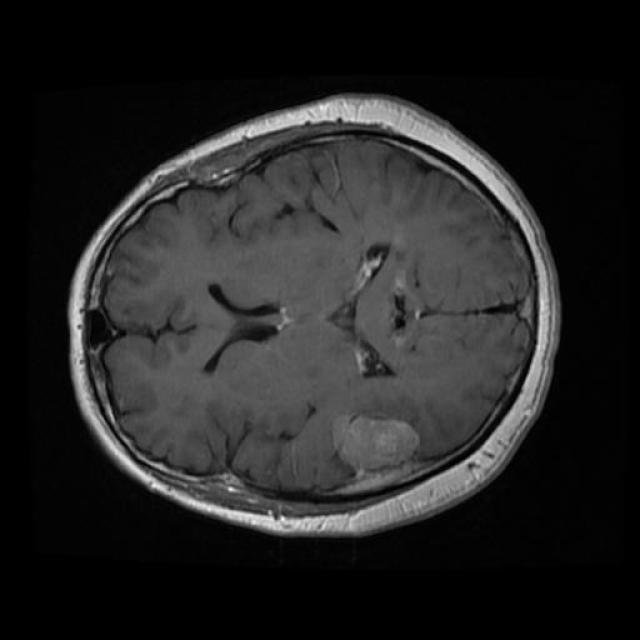Meningioma: (333, 416, 419, 476)
